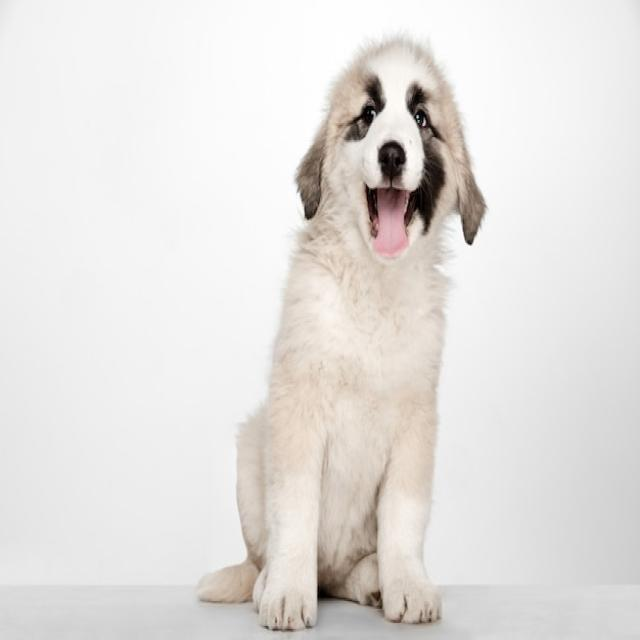Dog: (199, 31, 486, 635)
